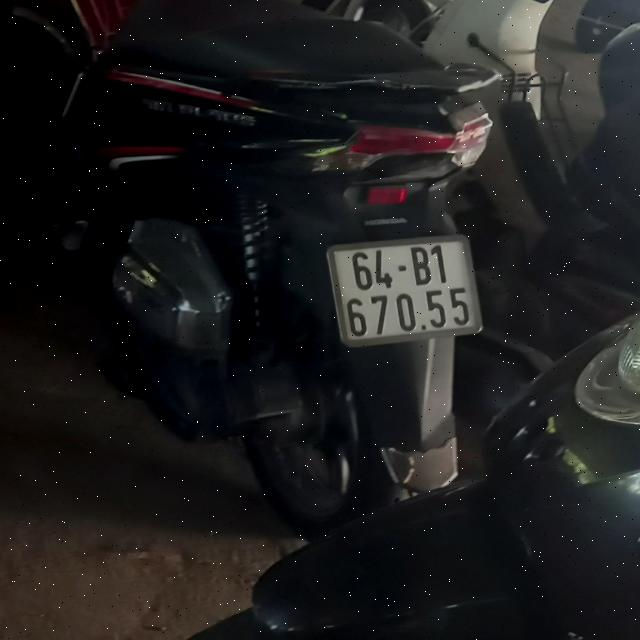0: (397, 293, 418, 331)
1: (432, 245, 448, 283)
4: (374, 248, 393, 288)
5: (426, 290, 446, 328), (450, 287, 469, 325)
6: (346, 298, 368, 336), (352, 252, 373, 290)
7: (370, 294, 390, 335)
B: (410, 245, 432, 286)
